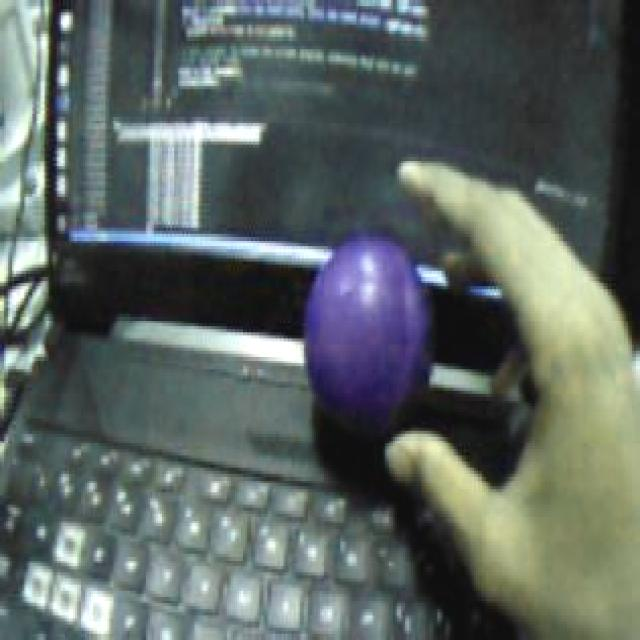BallPurple: (306, 234, 432, 433)
